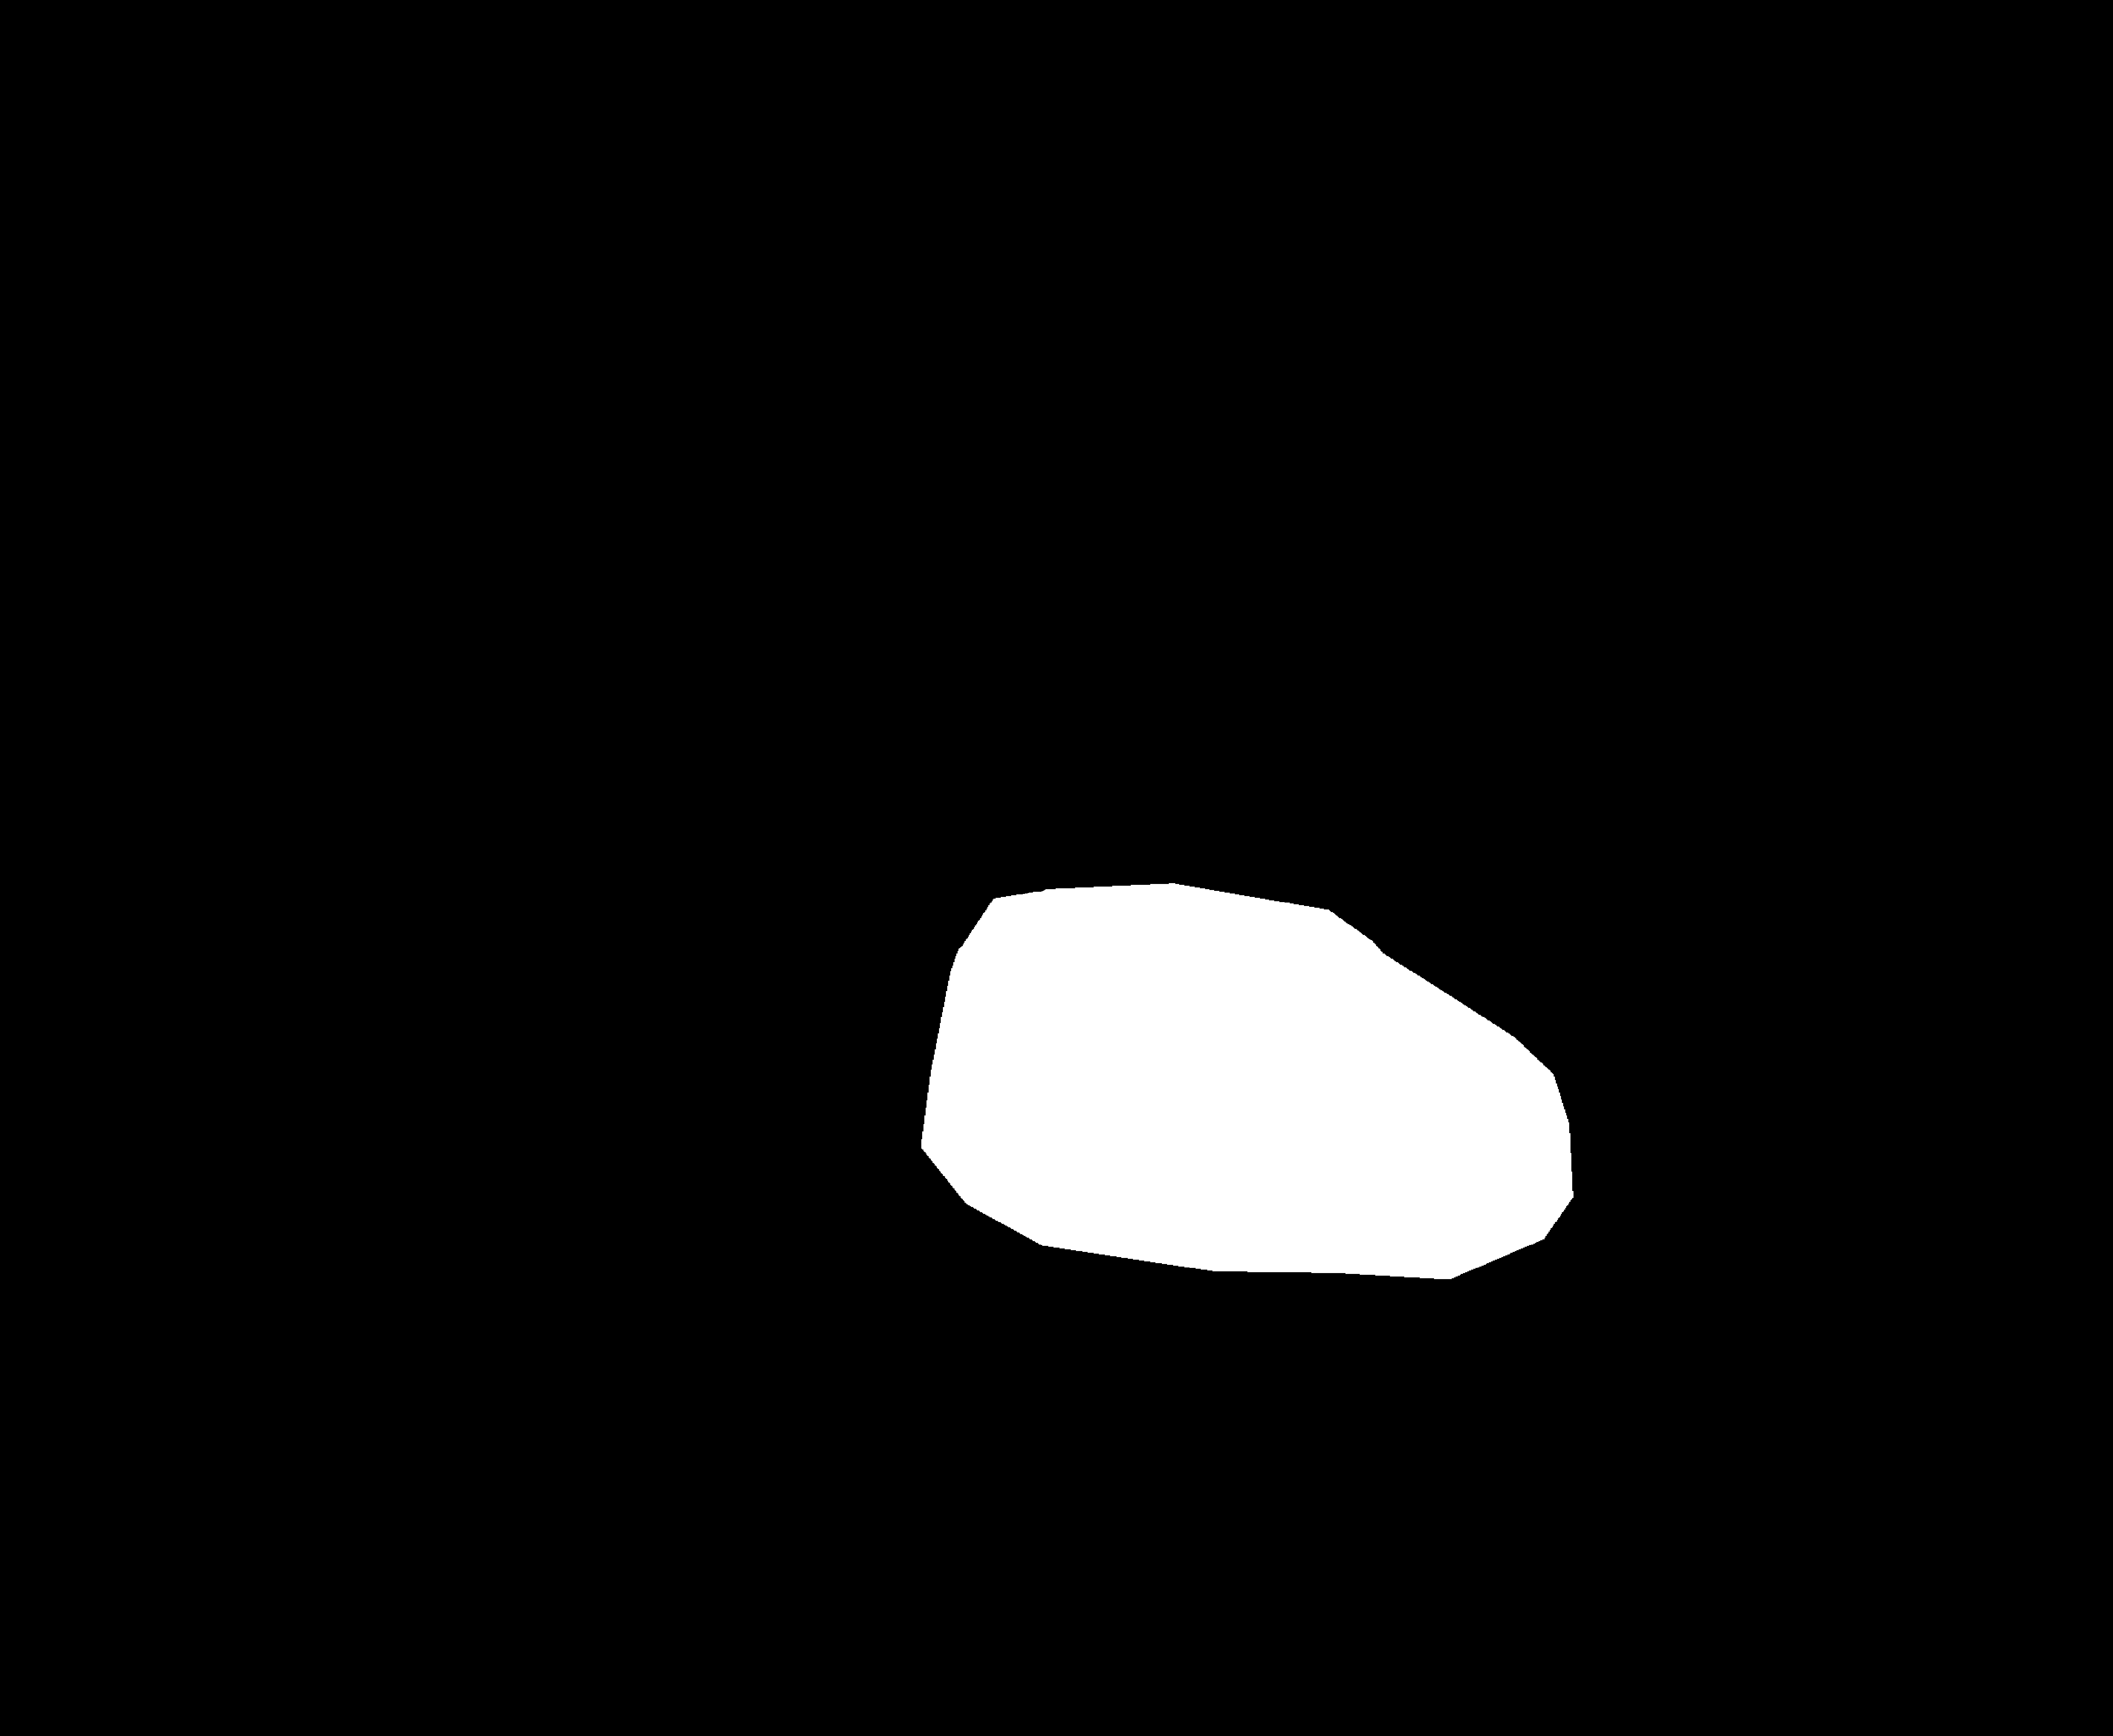heart: (865, 862, 1637, 1248)
left_lung: (423, 286, 1076, 1239)
right_lung: (1230, 265, 1953, 1306)
